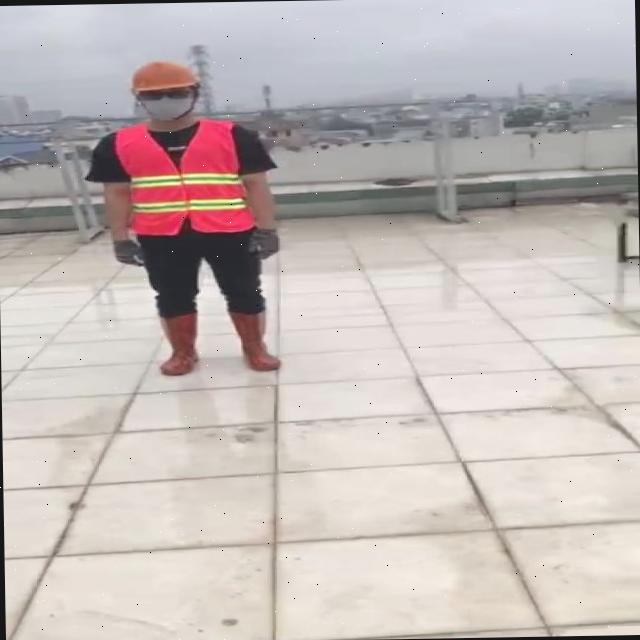boots: (227, 311, 282, 374), (153, 312, 204, 374)
